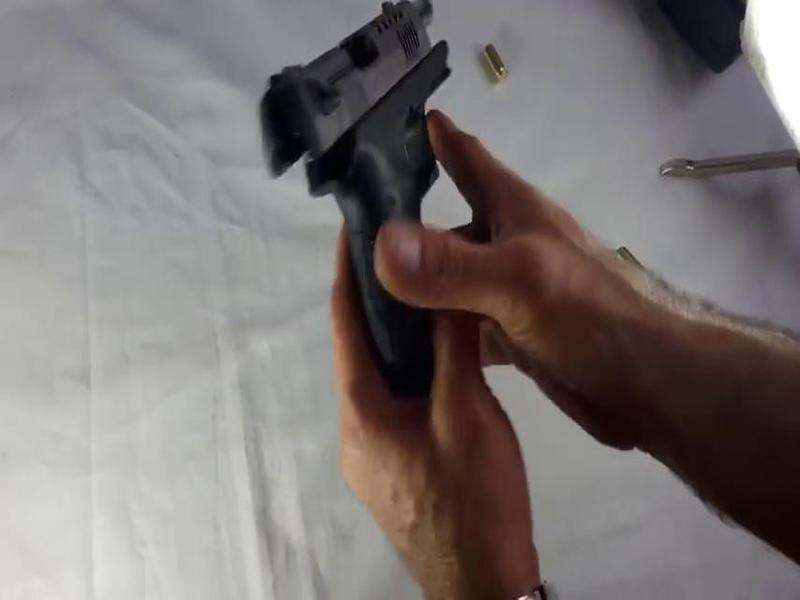Pistola: (235, 2, 492, 403)
